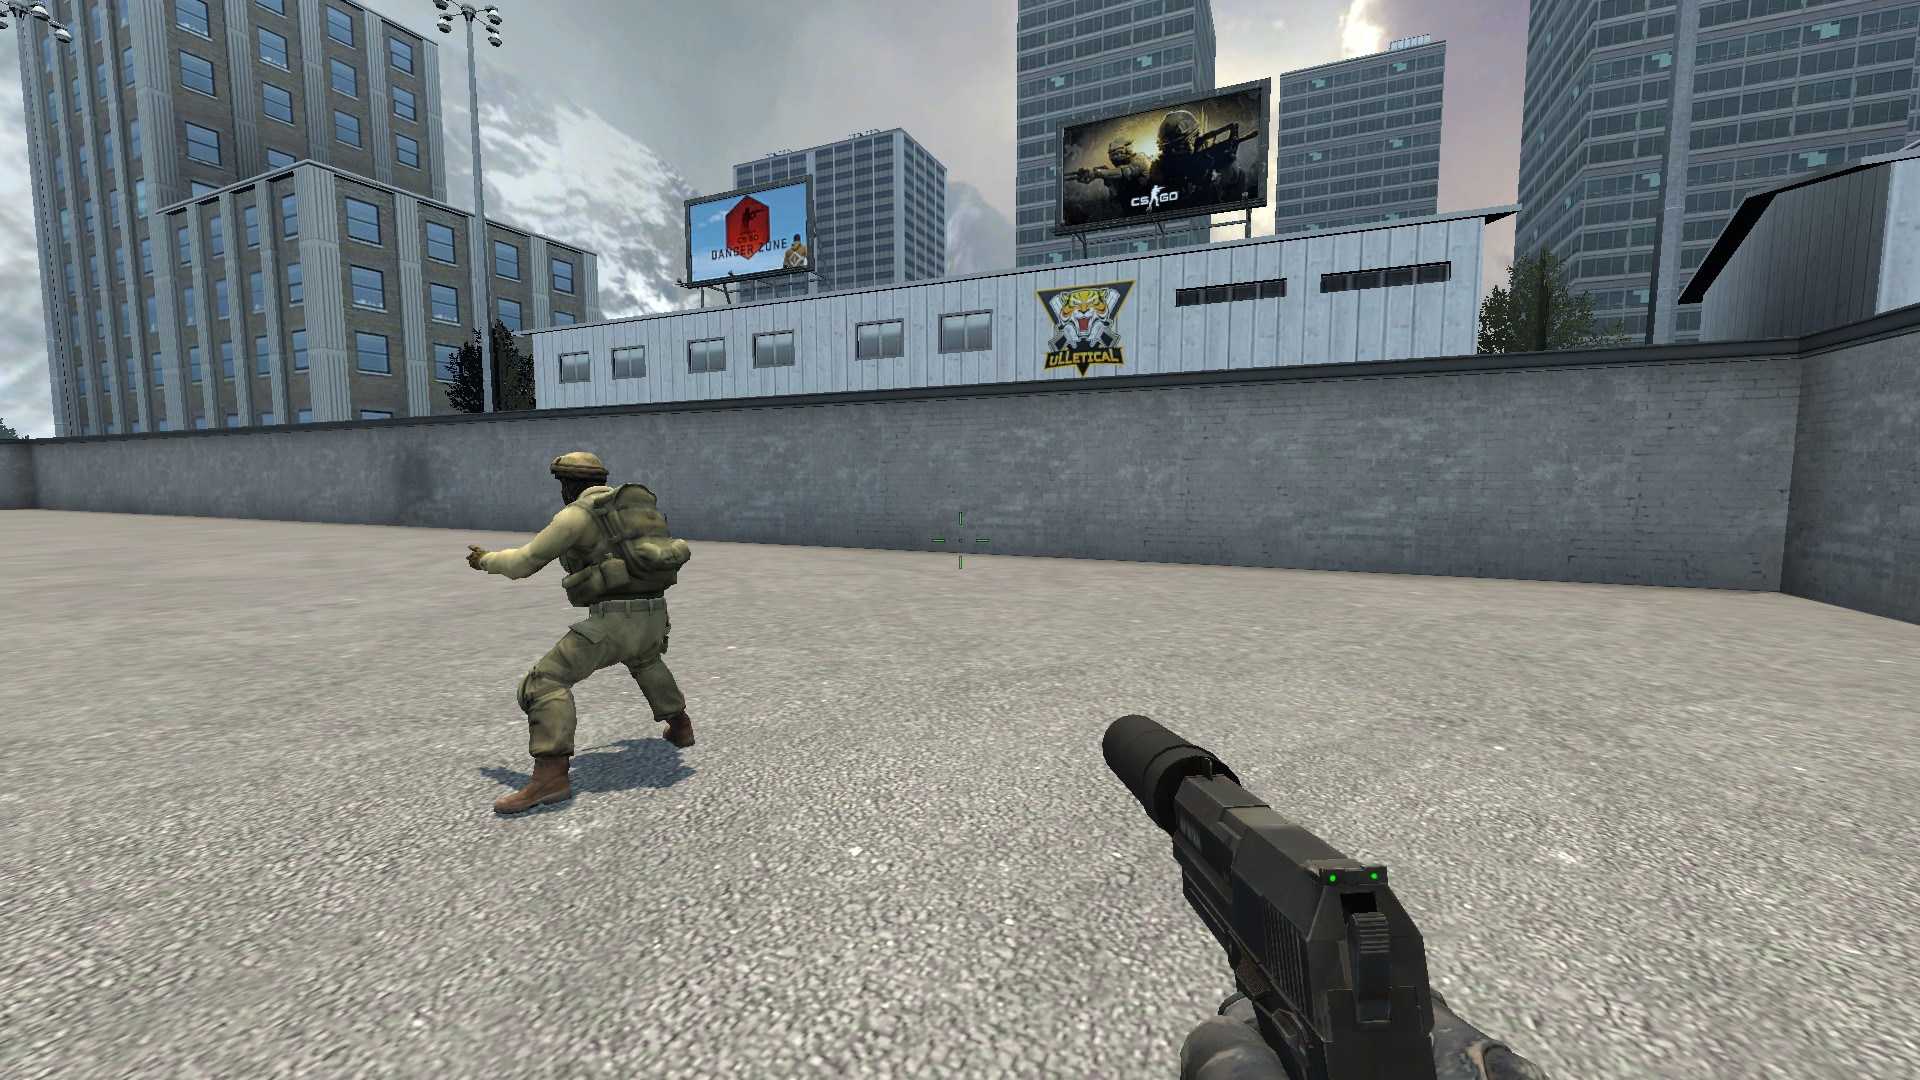ct: (462, 448, 700, 818)
ct head: (546, 446, 613, 512)
